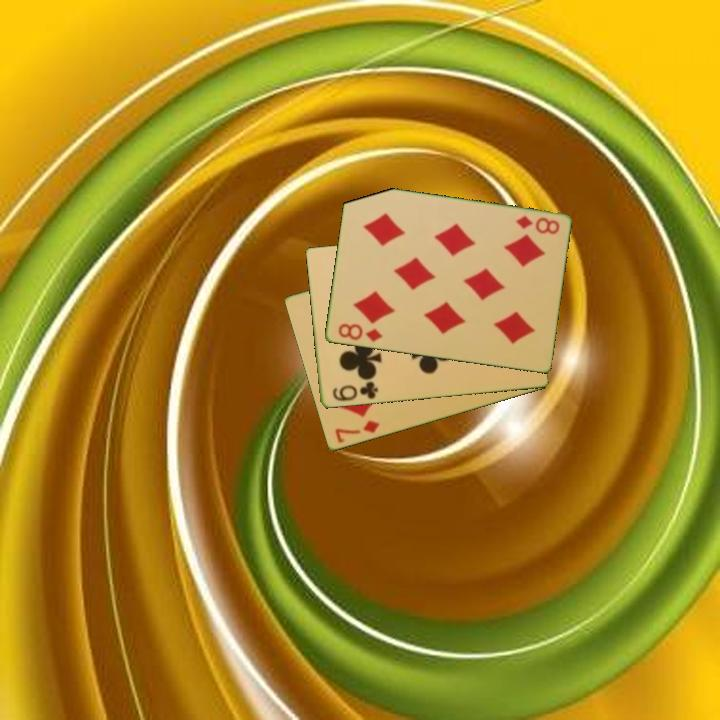6c: (329, 378, 381, 404)
7d: (331, 417, 382, 446)
8d: (334, 320, 385, 345), (512, 212, 562, 237)
